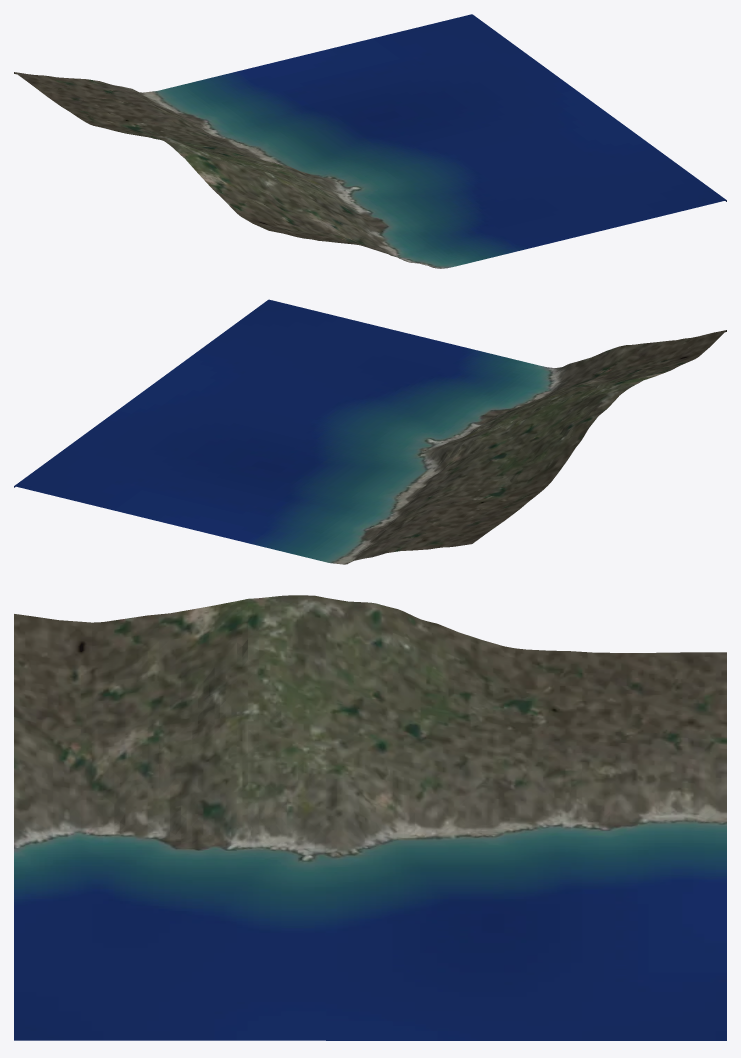
3 renders of one model, top to bottom at view 1: azimuth 30°, elevation 25°; view 2: azimuth 150°, elevation 25°; view 3: azimuth 270°, elevation 25°, orthographic. The views are drawn at different scales.
Bounding box in the file's own units: 250 × 50.42 × 241.
Materials: 1 (1 with a texture image).
